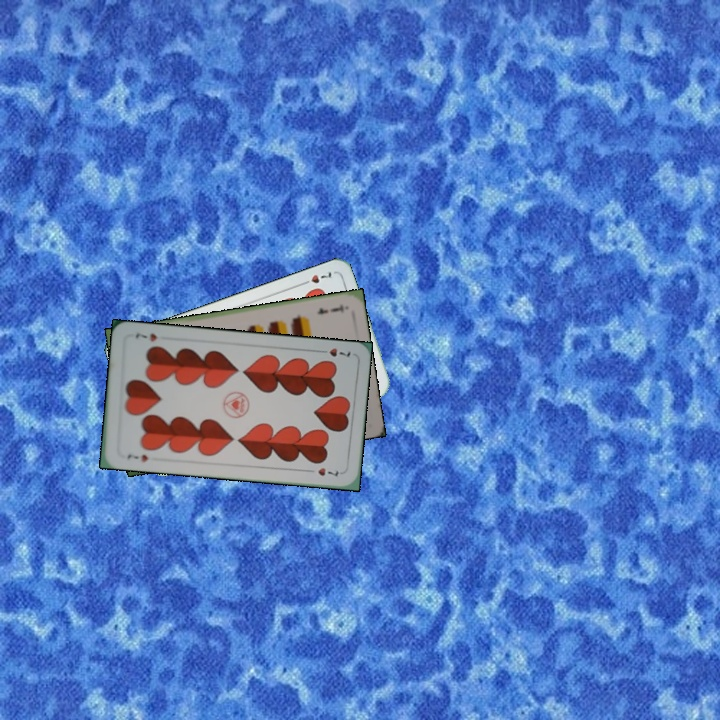E7: (313, 300, 346, 316)
H7: (297, 268, 334, 288), (314, 344, 353, 359), (123, 450, 150, 464)
